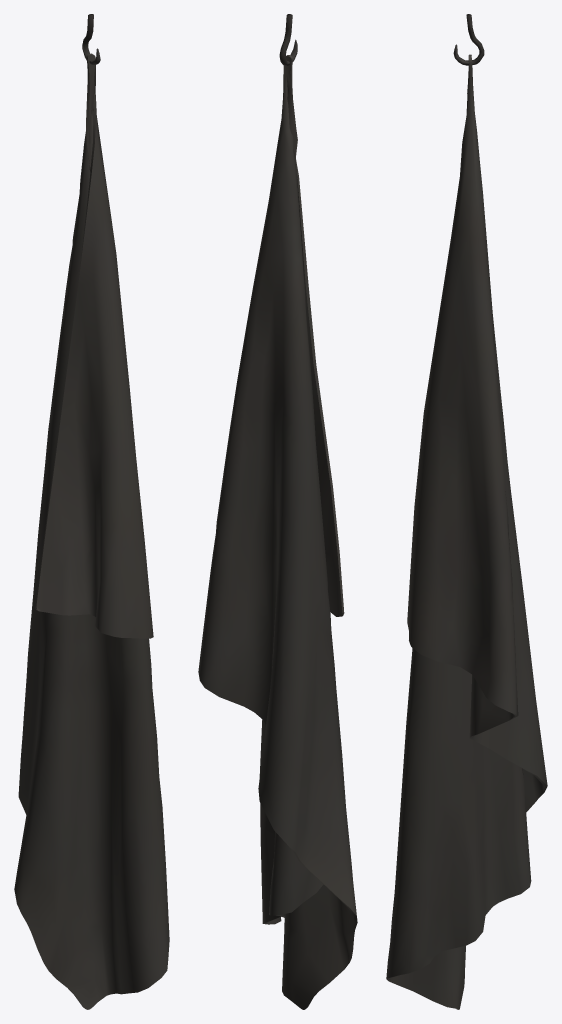
Rendered from Old_Cloth_01.fbx.
The picture shows the model from 3 angles, left to right: view 1: azimuth 30°, elevation 25°; view 2: azimuth 150°, elevation 25°; view 3: azimuth 270°, elevation 25°; orthographic projection.
Visible parts, largest first — view 1: Old_Cloth_01, Hook_01; view 2: Old_Cloth_01, Hook_01; view 3: Old_Cloth_01, Hook_01.
Part boxes in pixels (x1,y1,x2,y2): Old_Cloth_01: (14,53,169,1009); Hook_01: (82,14,100,64); Old_Cloth_01: (198,55,357,1009); Hook_01: (279,14,297,65); Old_Cloth_01: (386,54,547,1009); Hook_01: (453,14,484,65).
Size of what is drawn, in the model's own units: 38.76 by 259 by 37.87.
